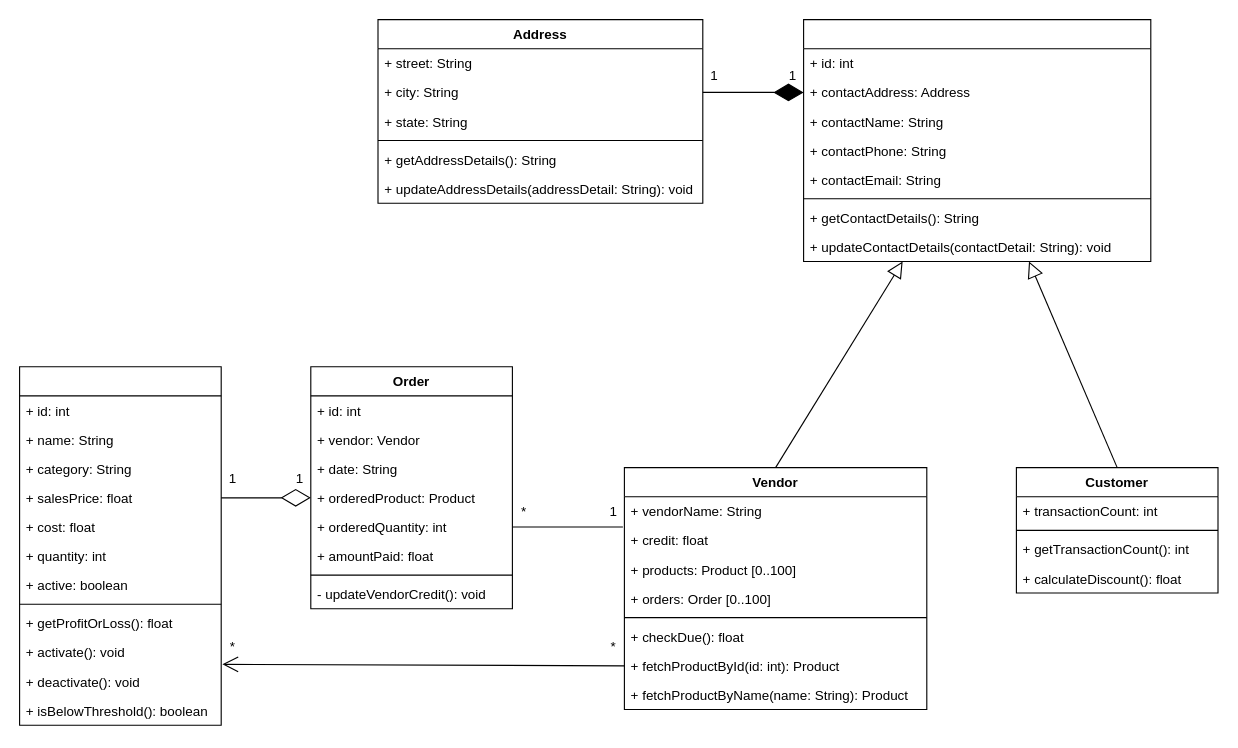
This 1238x748 diagram has some shape labels left out. Here are the shapes that lost their labels. From the top down, the box of each, then its label:
(802, 18, 1151, 262): BusinessPartner
(18, 366, 221, 725): Product
